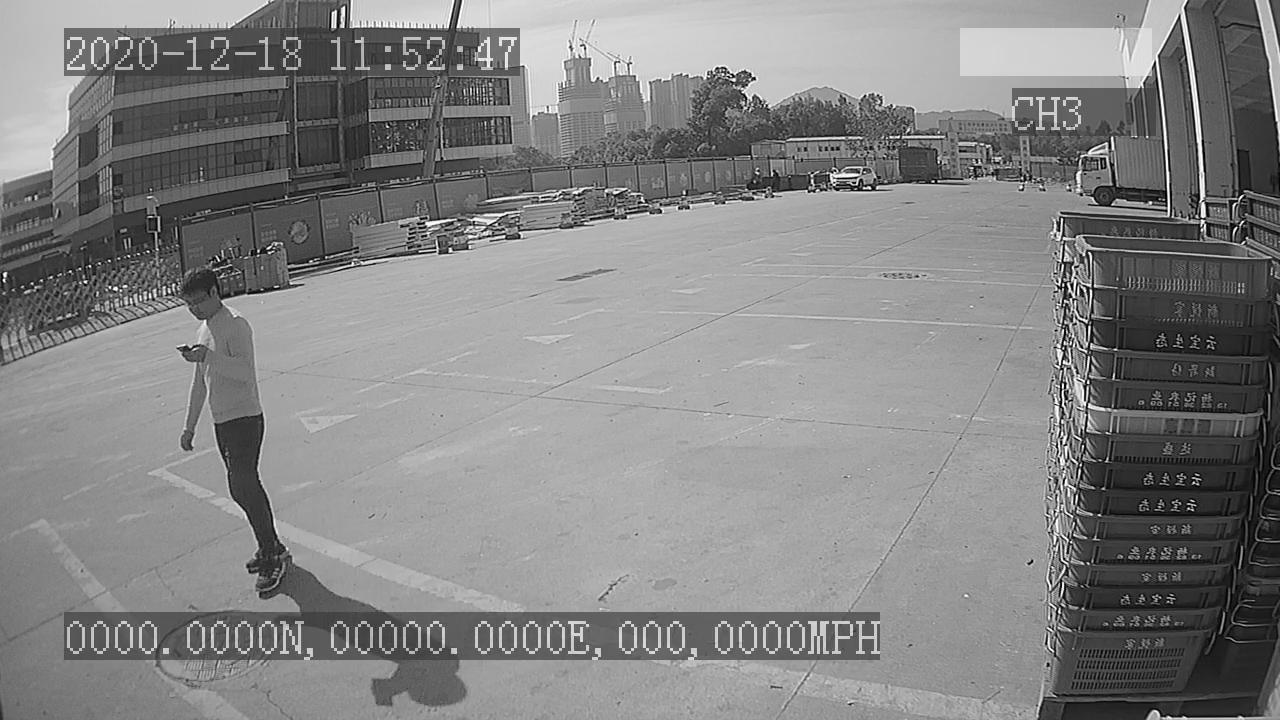person: (163, 263, 293, 602)
